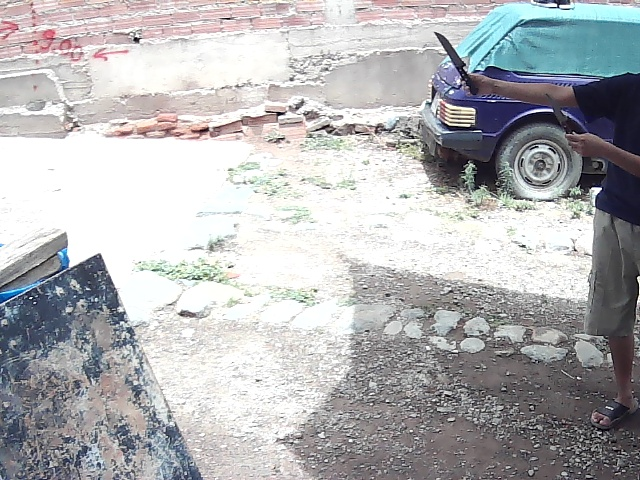cuchillo: (431, 27, 480, 97)
